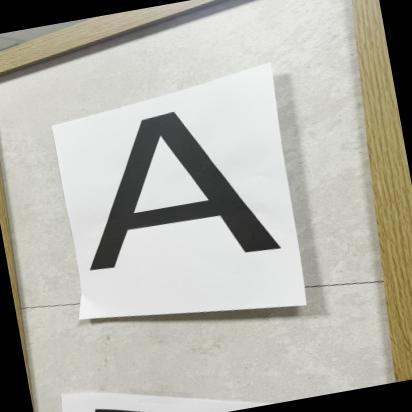seat: (48, 84, 304, 296)
